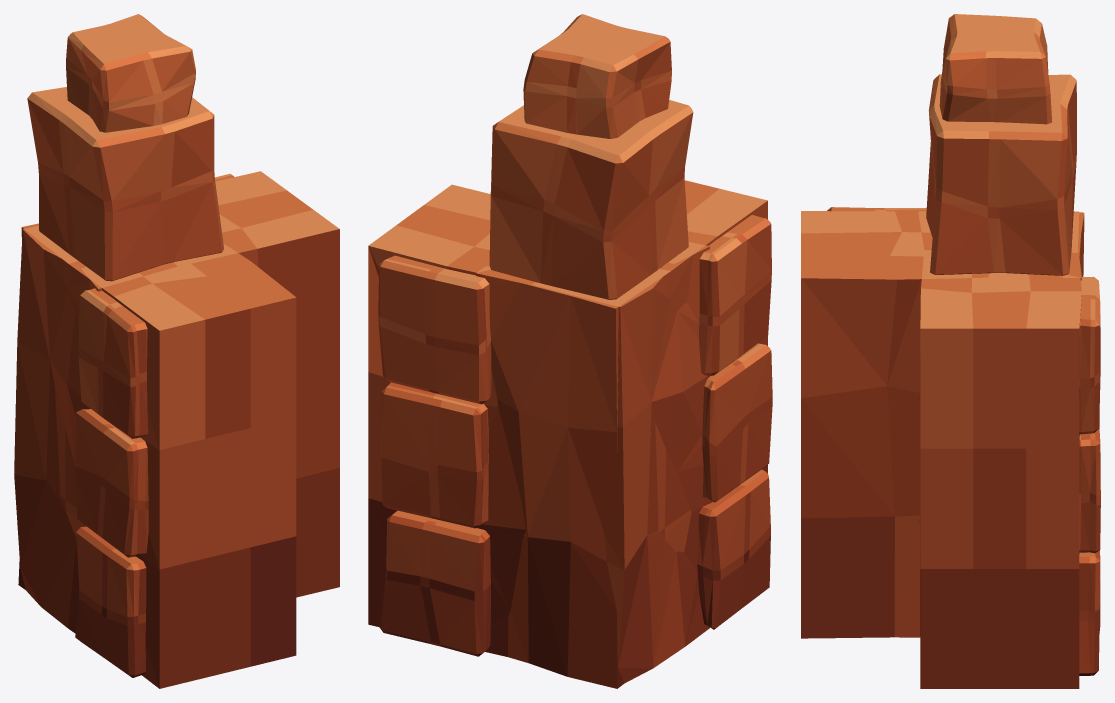
The model's file is SM_CLIFF_CORNER_02.fbx.
3 renders of one model, left to right at view 1: azimuth 30°, elevation 25°; view 2: azimuth 150°, elevation 25°; view 3: azimuth 270°, elevation 25°, orthographic. The views are drawn at different scales.
Visible parts, largest first — view 1: CLIFF_CORNER_02; view 2: CLIFF_CORNER_02; view 3: CLIFF_CORNER_02.
Part boxes in pixels (bbox=[...]): CLIFF_CORNER_02: bbox=[14, 14, 339, 688]; CLIFF_CORNER_02: bbox=[368, 14, 772, 688]; CLIFF_CORNER_02: bbox=[801, 14, 1100, 688].
Bounding box in the file's own units: 3.01 × 3.02 × 6.3.
